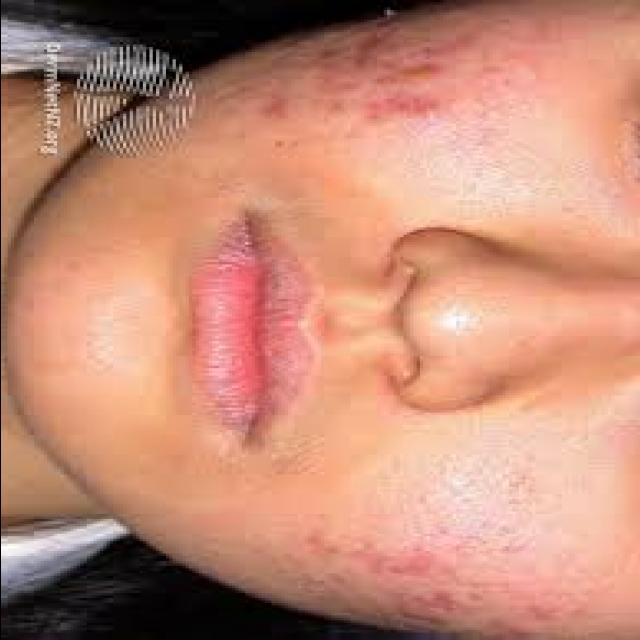Acne: (364, 87, 446, 127), (402, 586, 468, 618), (384, 544, 439, 581), (258, 92, 300, 124), (366, 18, 408, 46), (394, 60, 448, 81)
